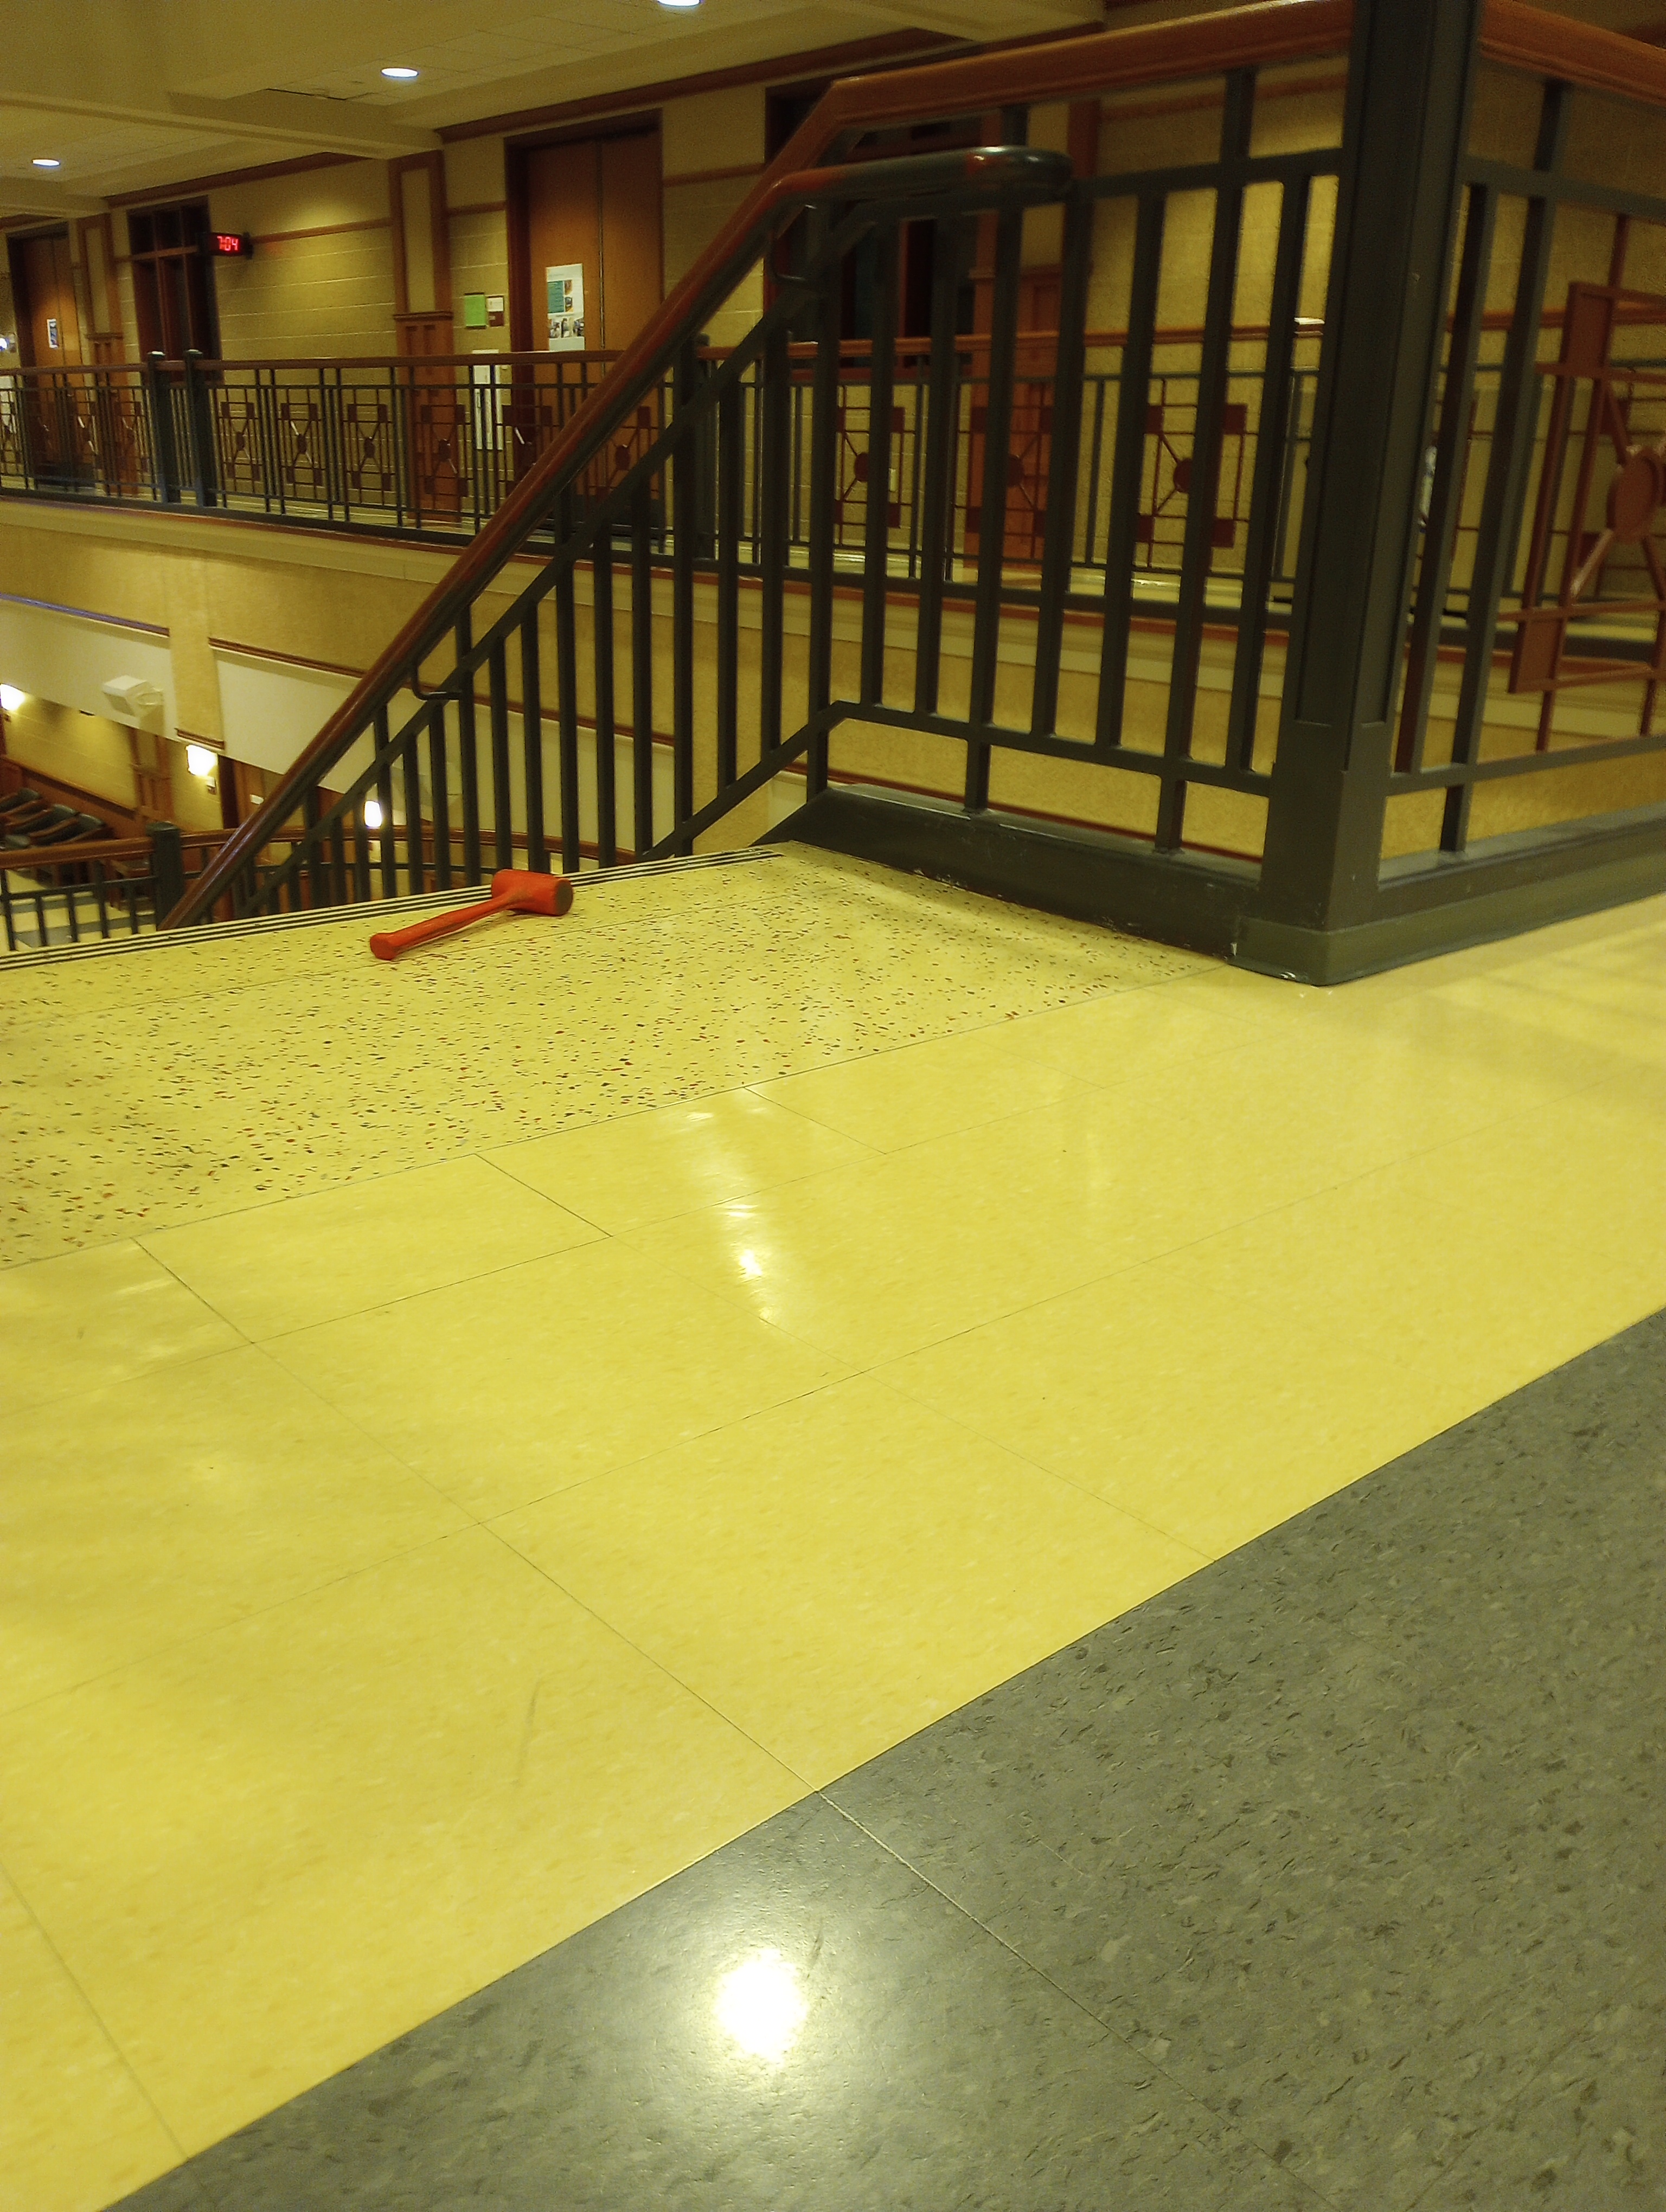hammer: (364, 854, 574, 972)
